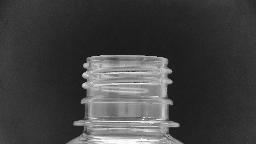No Cap: (68, 51, 184, 133)
